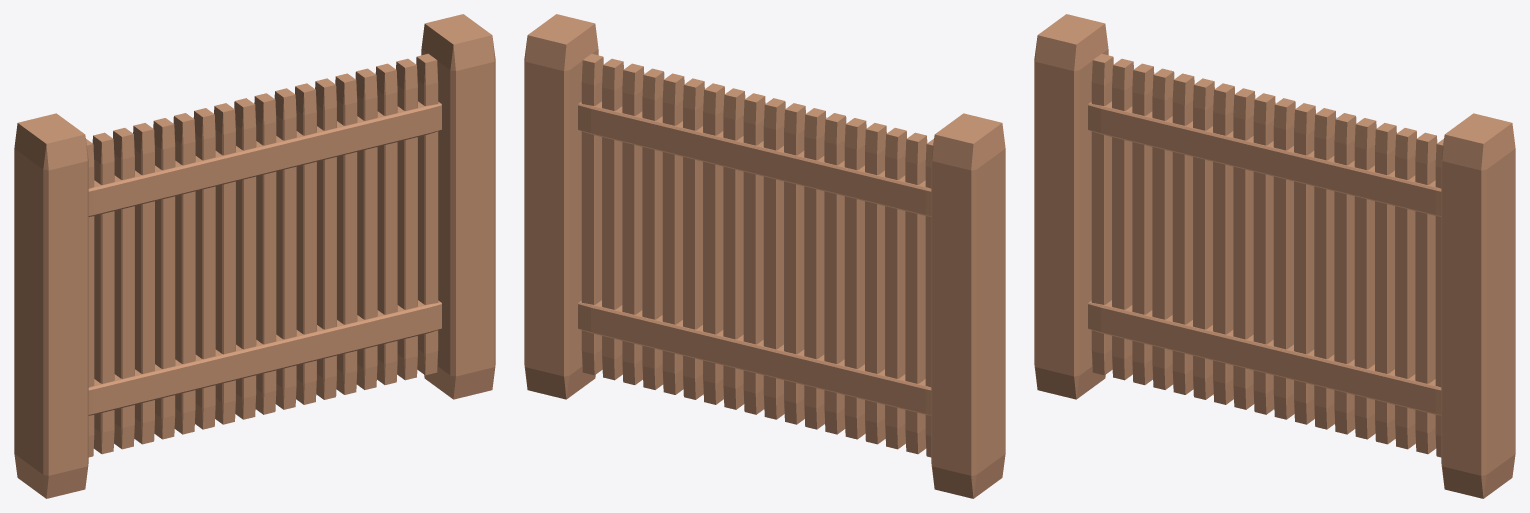
File: b19_security_chainlink_fence.glb
3 renders of one model, left to right at view 1: azimuth 30°, elevation 25°; view 2: azimuth 150°, elevation 25°; view 3: azimuth 330°, elevation 25°, orthographic.
Parts seen in each view (by area): view 1: b19_security_chainlink_fence; view 2: b19_security_chainlink_fence; view 3: b19_security_chainlink_fence.
Boxes of the visible parts, x1,y1,x2,y2 form: b19_security_chainlink_fence: (14,14,495,498); b19_security_chainlink_fence: (524,14,1005,498); b19_security_chainlink_fence: (1034,14,1515,498).
Size of the model in its own units: 3.2 by 2.4 by 0.412.
